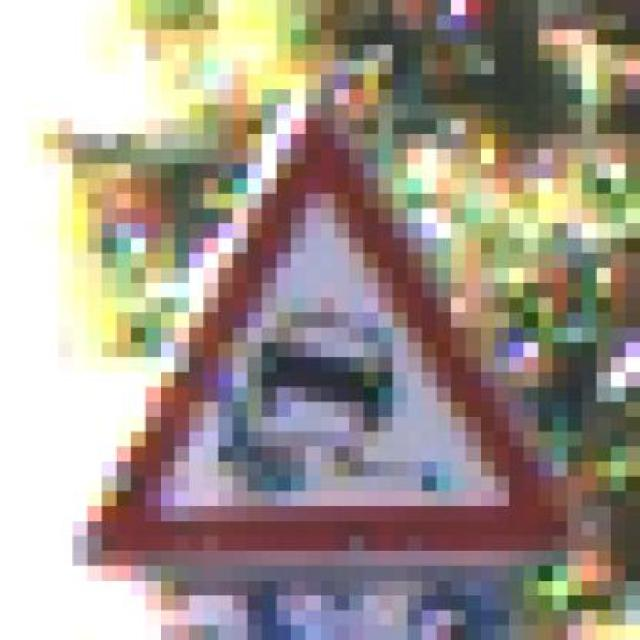Slippery Road Ahead: (54, 89, 563, 566)
